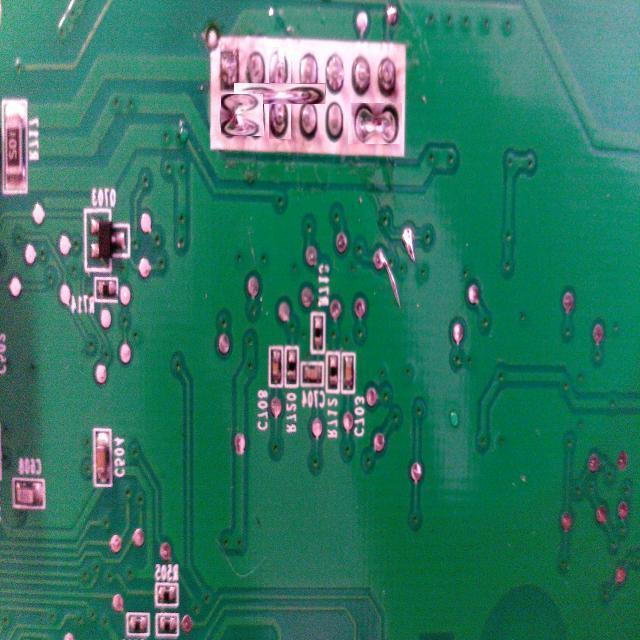Short_circuit: (252, 65, 309, 122), (347, 102, 402, 144), (221, 94, 264, 136)
